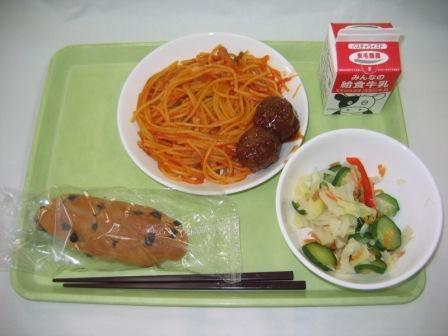Bread: (26, 183, 204, 276)
Milk: (314, 18, 406, 123)
Salad: (292, 145, 419, 280)
Spaghetti: (123, 51, 248, 177)
cutlet: (235, 90, 301, 175)
